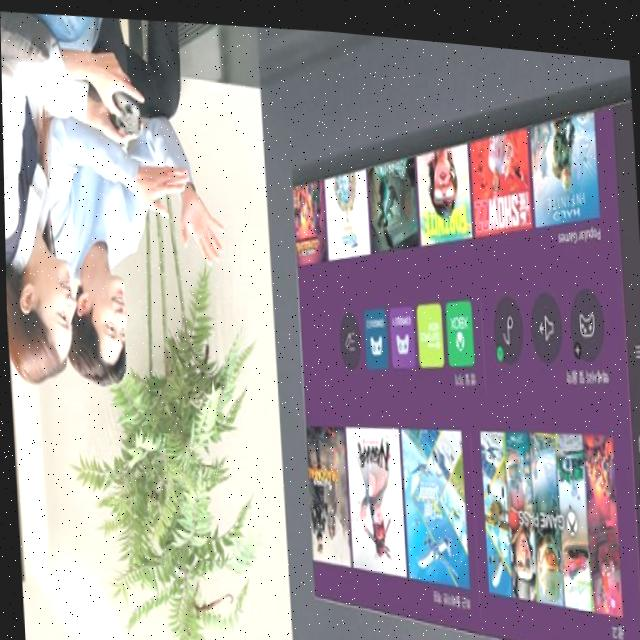tv-person: (0, 0, 640, 640), (59, 4, 640, 640)
